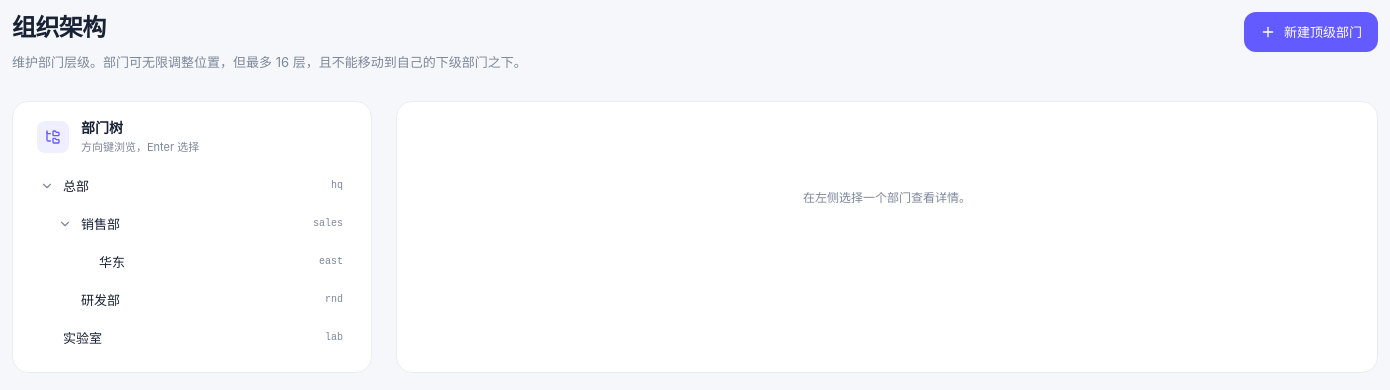
Test: organization view › shows the tree and the selected department
The image size is (1390, 390).
Click the list item "华东 east": [112, 262] box [99,254,343,270]
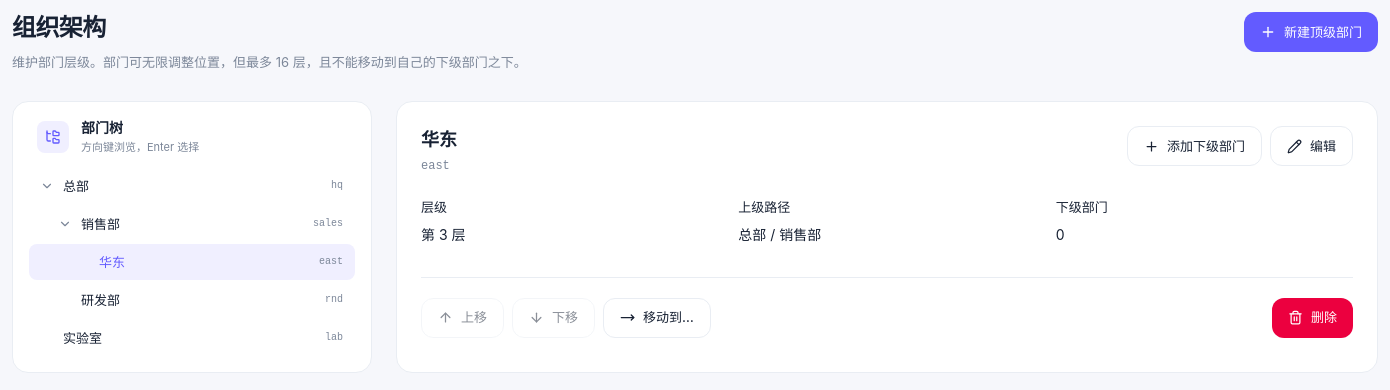
Expected: the text "华东" is shown, [99,252,125,271]
Expected: the text "第 3 层" is shown, [421,226,466,243]
Expected: the text "总部 / 销售部" is shown, [738,226,821,243]
Click the list item "总部 hq": [76, 186] box [37,176,343,196]
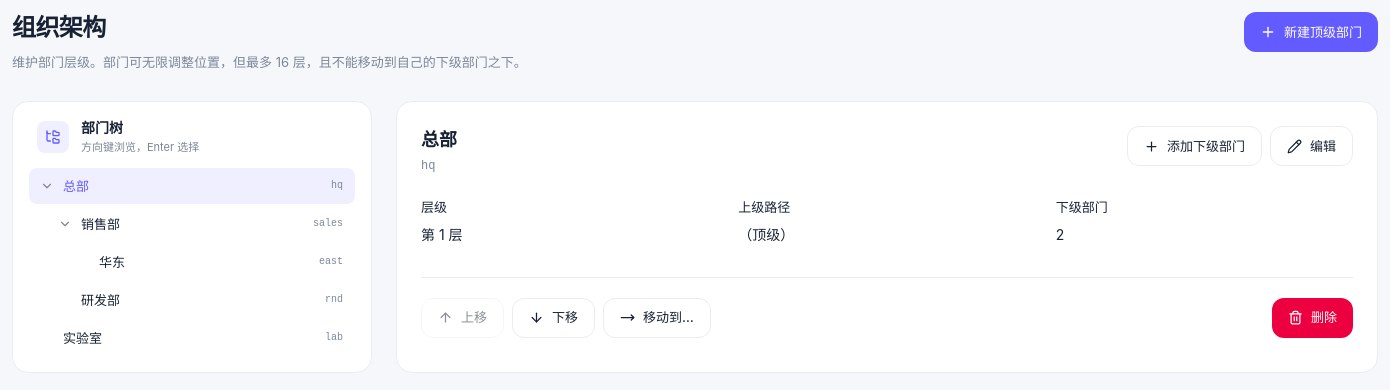
Expected: the text "（顶级）" is shown, [738,226,794,243]
